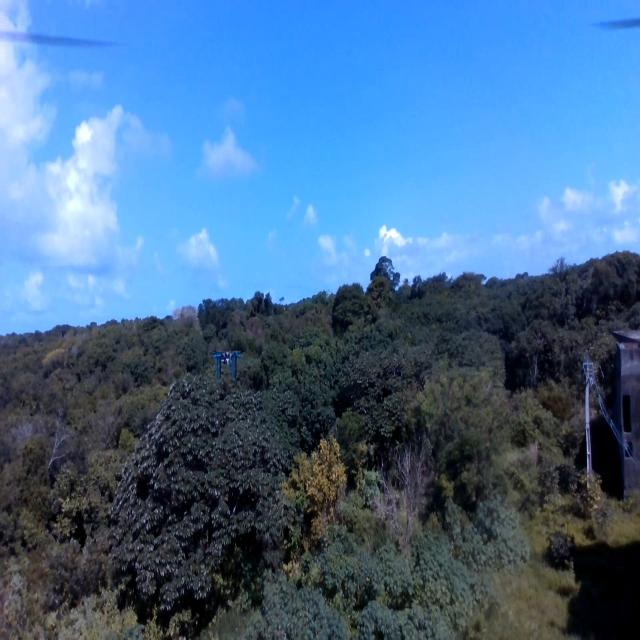-uav-: (208, 326, 242, 398)
